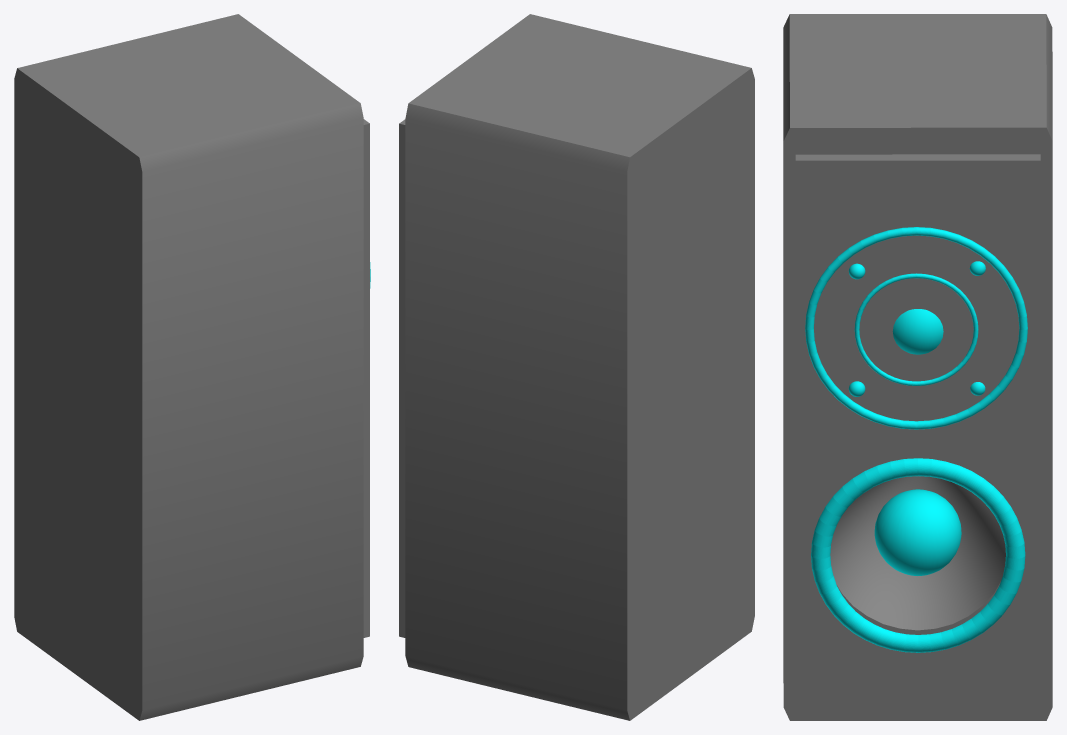
The model's file is Speakers_compressed.glb.
3 views of the same model, side by side, from view 1: azimuth 30°, elevation 25°; view 2: azimuth 150°, elevation 25°; view 3: azimuth 270°, elevation 25° (orthographic). The views are drawn at different scales.
Visible parts, largest first — view 1: Speaker; view 2: Speaker; view 3: Speaker, Circle, Torus, Sphere, Torus.004, Torus.002, Sphere.005.
Boxes of the visible parts, left/top/right/bottom form: Speaker: left=14, top=14, right=369, bottom=720; Speaker: left=399, top=14, right=754, bottom=720; Speaker: left=783, top=14, right=1052, bottom=720; Circle: left=814, top=235, right=1019, bottom=421; Torus: left=811, top=458, right=1025, bottom=652; Sphere: left=874, top=489, right=961, bottom=575; Torus.004: left=805, top=227, right=1027, bottom=429; Torus.002: left=854, top=273, right=978, bottom=385; Sphere.005: left=892, top=309, right=943, bottom=354.
Bounding box in the file's own units: 2.22 × 4.86 × 2.
